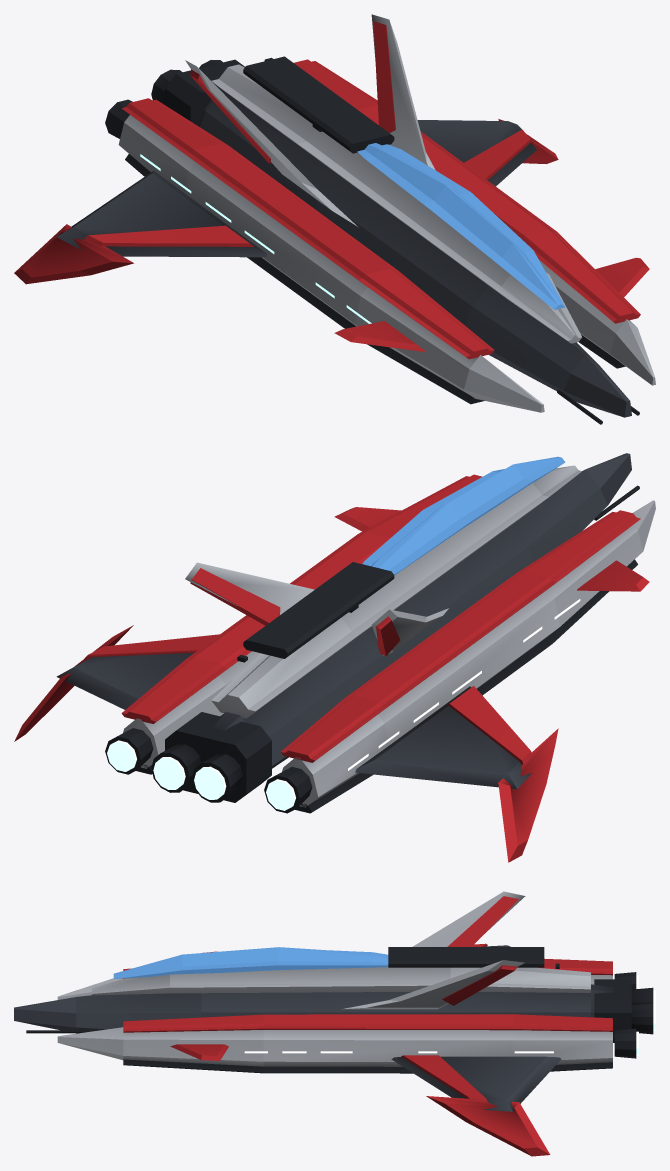
The model's file is interceptor.glb.
3 renders of one model, top to bottom at view 1: azimuth 30°, elevation 25°; view 2: azimuth 150°, elevation 25°; view 3: azimuth 270°, elevation 25°, orthographic. The views are drawn at different scales.
Visible parts, largest first — view 1: hull_interceptor; view 2: hull_interceptor; view 3: hull_interceptor.
Part boxes in pixels (<box>): hull_interceptor: <box>14,14,655,424</box>; hull_interceptor: <box>14,453,655,862</box>; hull_interceptor: <box>14,891,655,1156</box>.
Bounding box in the file's own units: 15.45 × 5.79 × 23.67.
